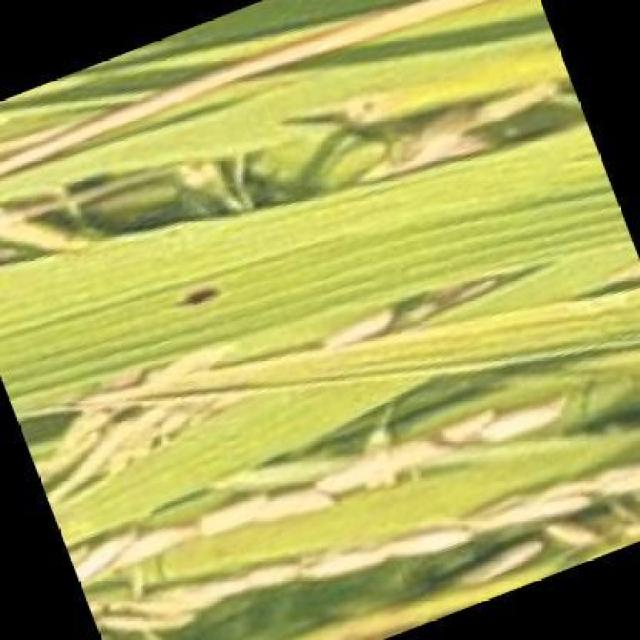Leaf_Blast: (152, 263, 231, 332)
